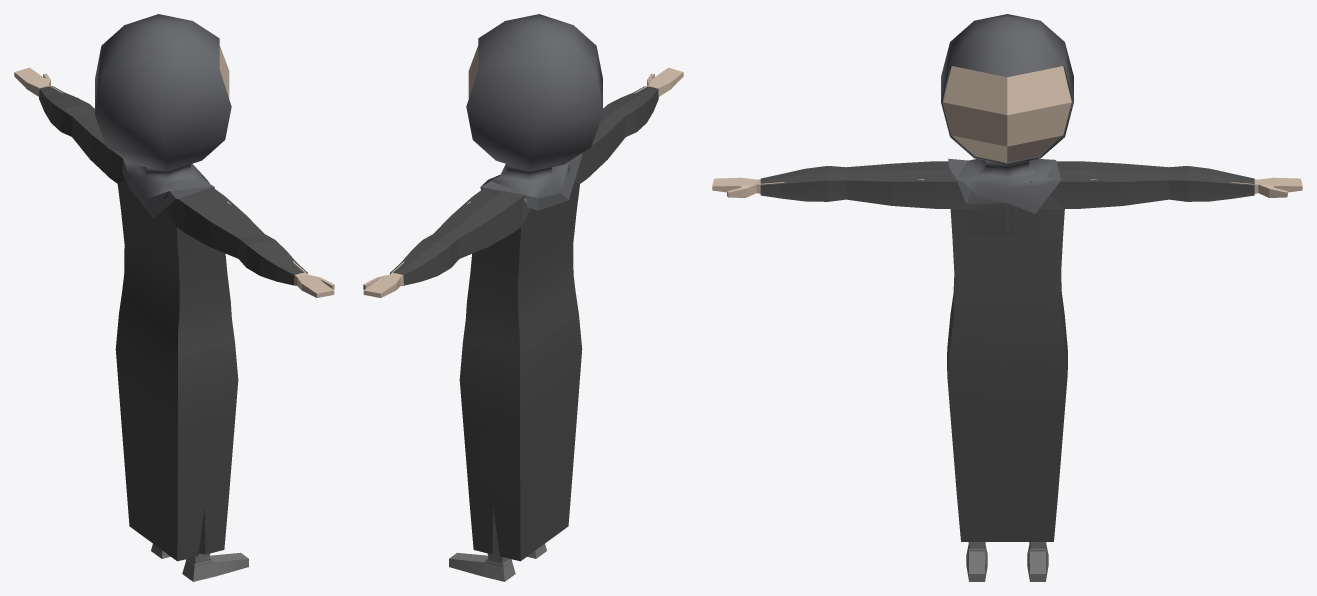
File: child_3.fbx
3 renders of one model, left to right at view 1: azimuth 30°, elevation 25°; view 2: azimuth 150°, elevation 25°; view 3: azimuth 270°, elevation 25°, orthographic. The views are drawn at different scales.
Visible parts, largest first — view 1: polySurface20, pSphere7, pSphere3, group8_pCube10; view 2: polySurface20, pSphere7, pSphere3, group8_pCube10; view 3: polySurface20, pSphere3, pSphere7, group8_pCube10.
Part boxes in pixels (x1,y1,x2,y2): polySurface20: (39, 86, 307, 561); pSphere7: (95, 14, 231, 217); pSphere3: (14, 45, 334, 297); group8_pCube10: (151, 544, 248, 581); polySurface20: (390, 86, 658, 561); pSphere7: (466, 14, 602, 210); pSphere3: (363, 45, 683, 297); group8_pCube10: (449, 544, 546, 581); polySurface20: (760, 161, 1254, 541); pSphere3: (712, 66, 1302, 197); pSphere7: (941, 14, 1073, 213); group8_pCube10: (966, 542, 1048, 581).
Bounding box in the file's own units: 2.8 × 11 × 10.91.
